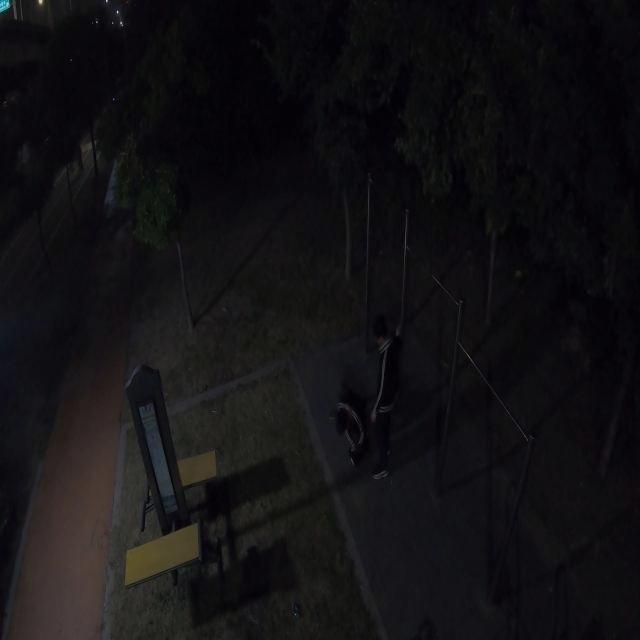fight: (326, 312, 410, 486)
